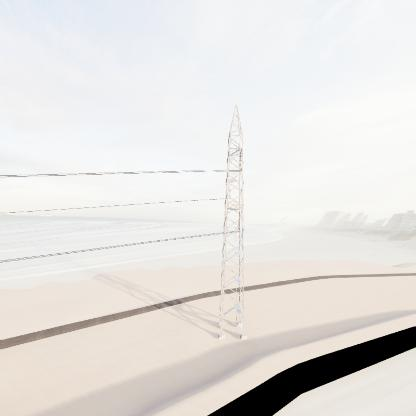tower: (212, 102, 248, 341)
